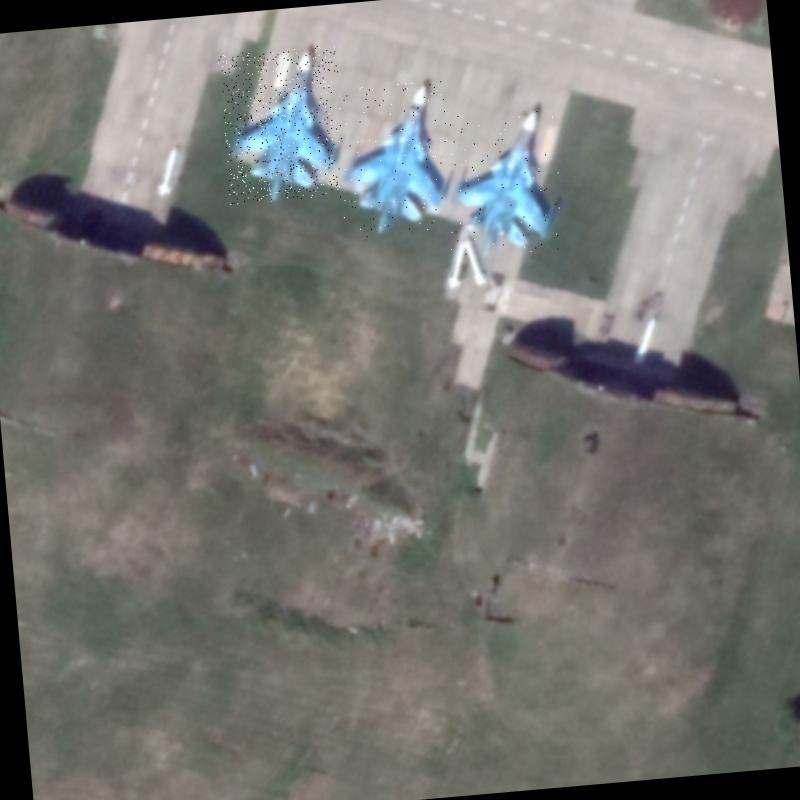A19: (217, 44, 349, 205), (330, 79, 456, 239), (440, 104, 566, 258)
